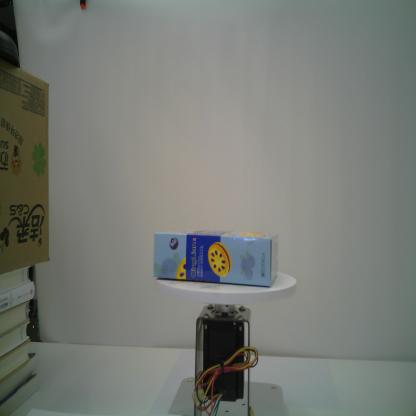Dessert: (152, 226, 280, 289)
